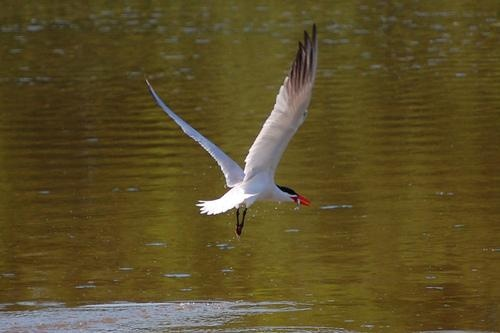bird: (115, 23, 316, 238)
